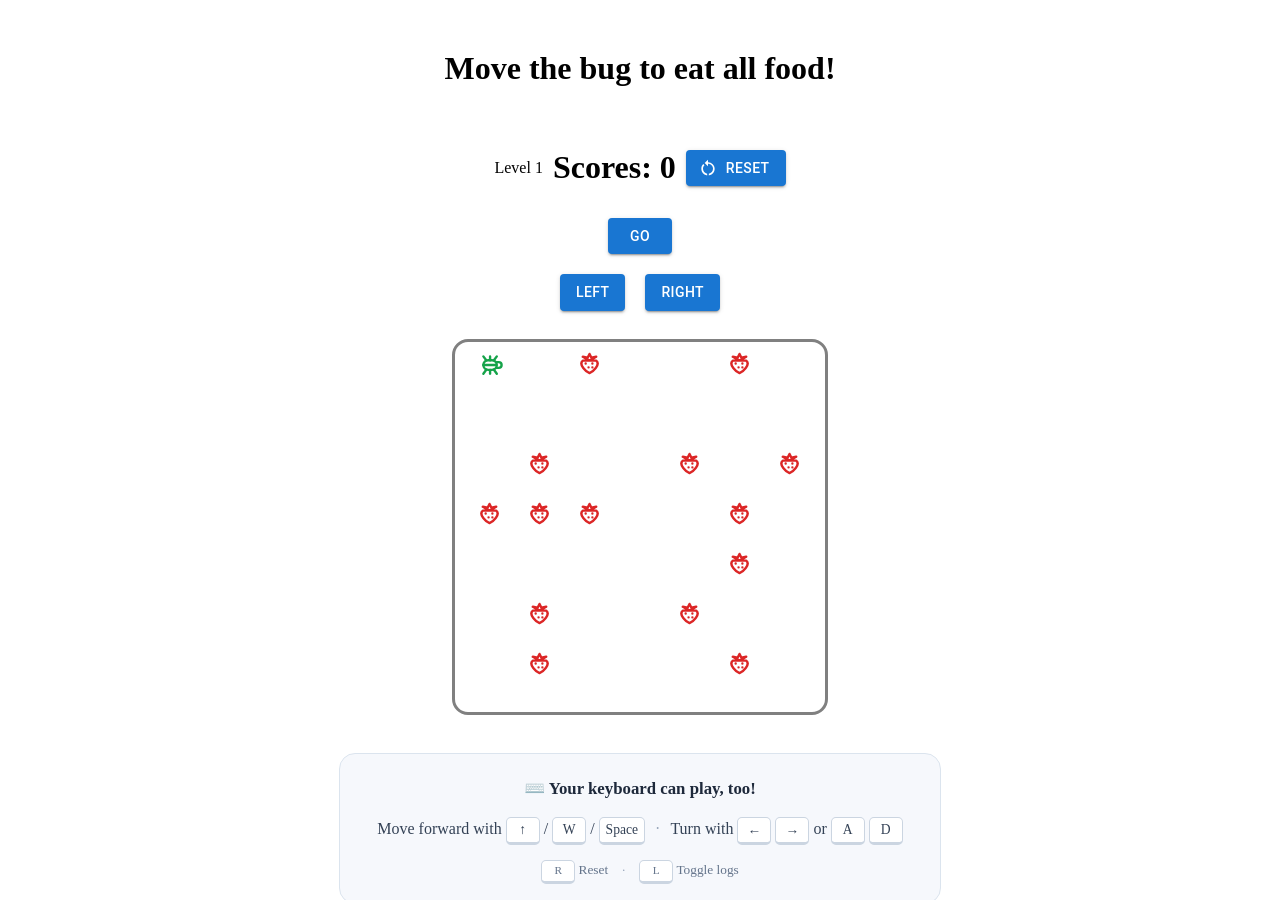
Scenario: Logs are generated when moving the bug
The image size is (1280, 900).
Note: Show logs
Press l
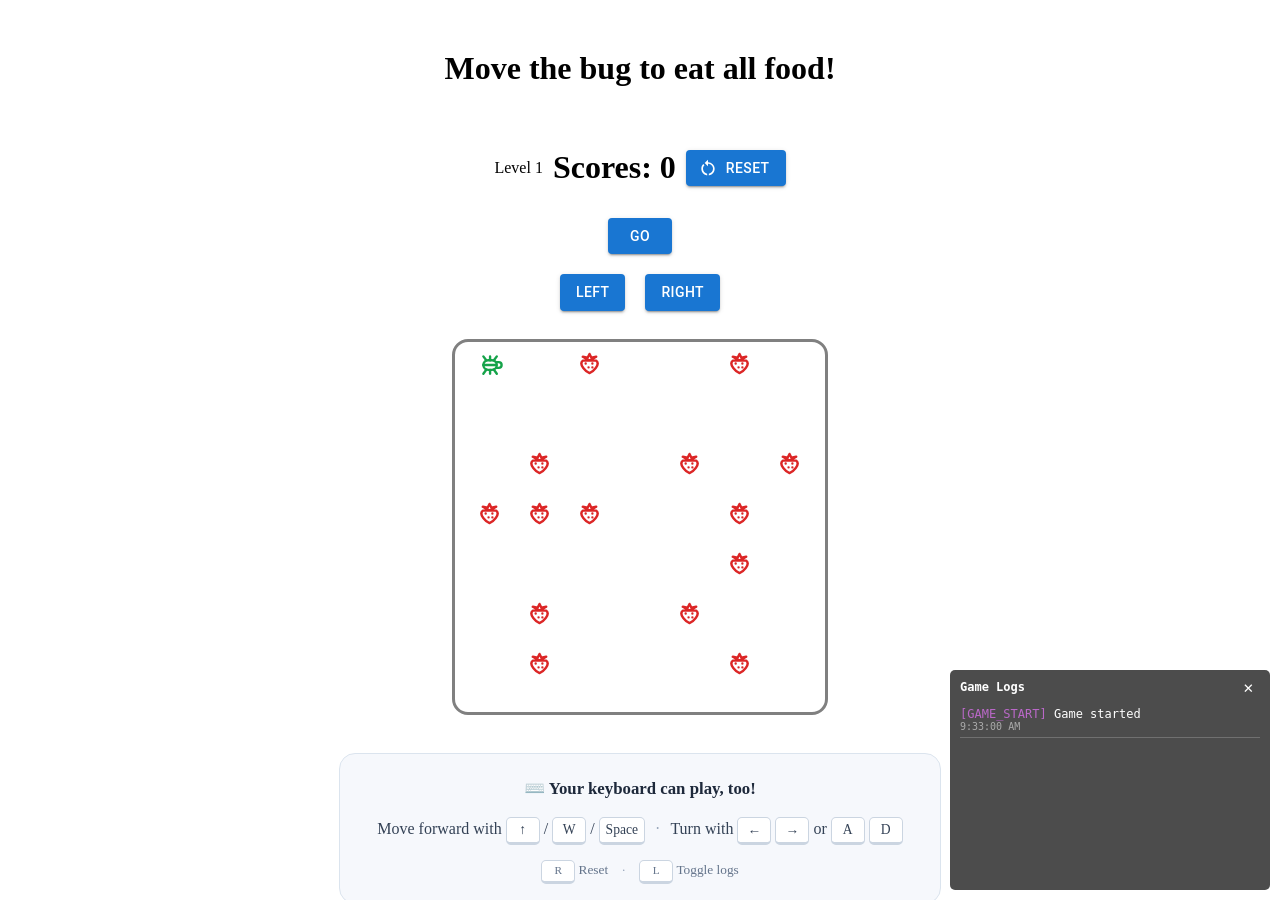
Check: the list item shows "GAME_START", box left=967, top=707, right=1040, bottom=721
Note: Move bug
Click the button with test id "move-button-Go" at [640, 236], box left=608, top=218, right=672, bottom=254
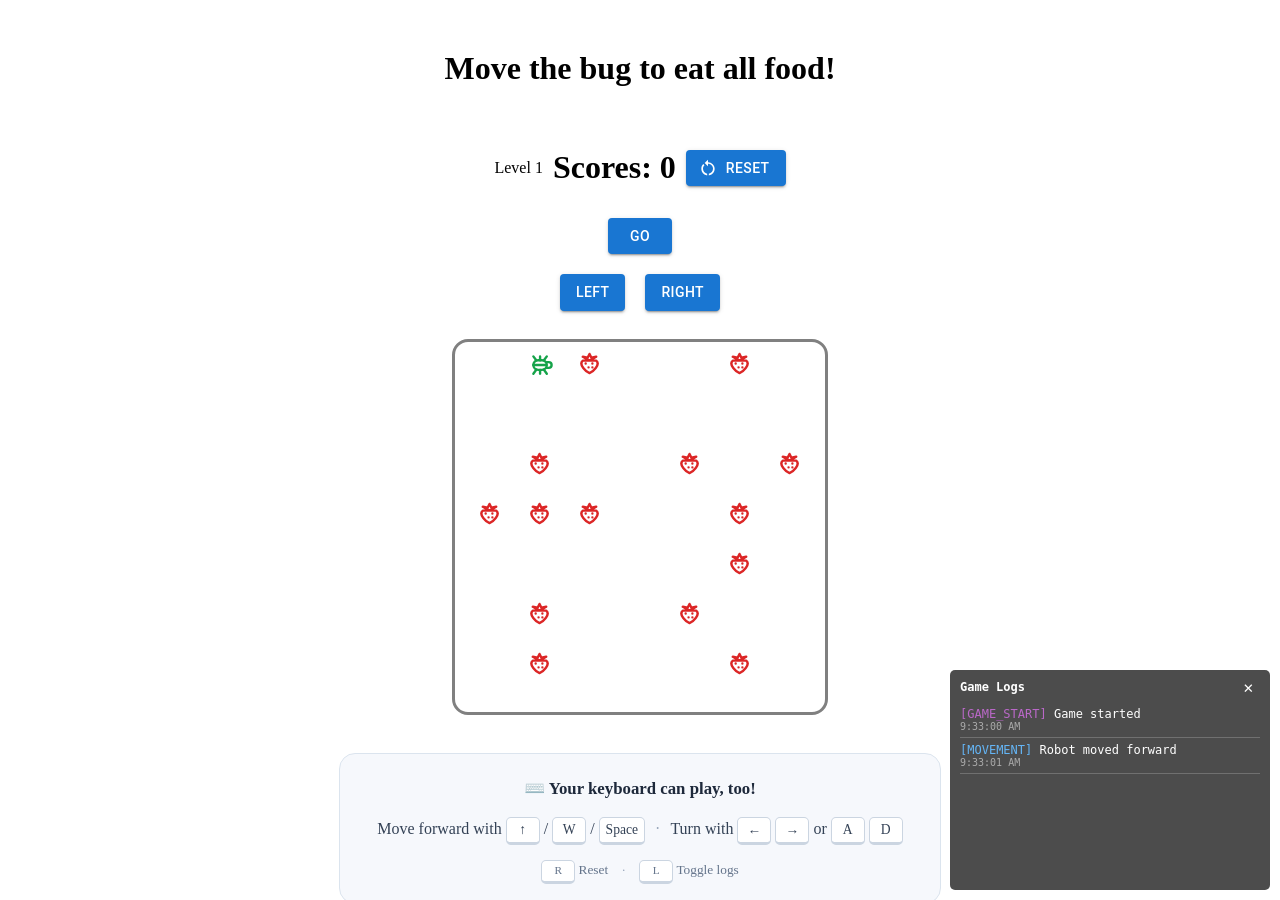
Check: the list item "[MOVEMENT] Robot moved forward 9:33:01 AM" is shown, box left=960, top=743, right=1260, bottom=774
